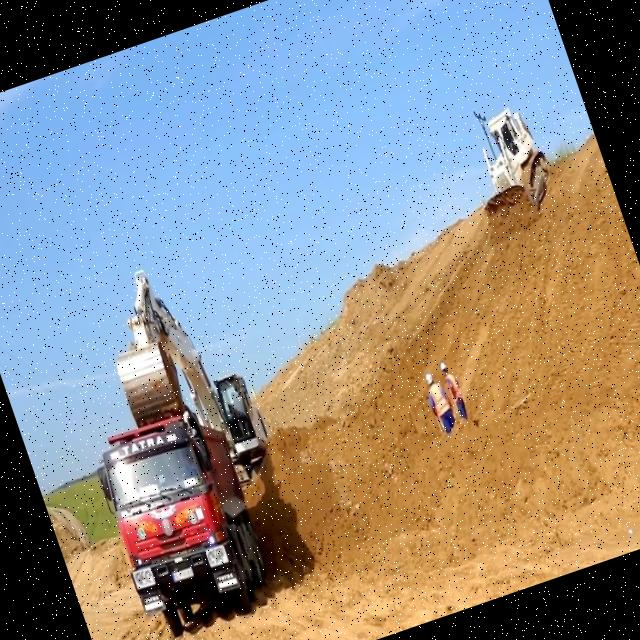Dump Truck: (80, 393, 284, 640)
Excavator: (84, 239, 286, 506)
Loader: (448, 87, 562, 226)
